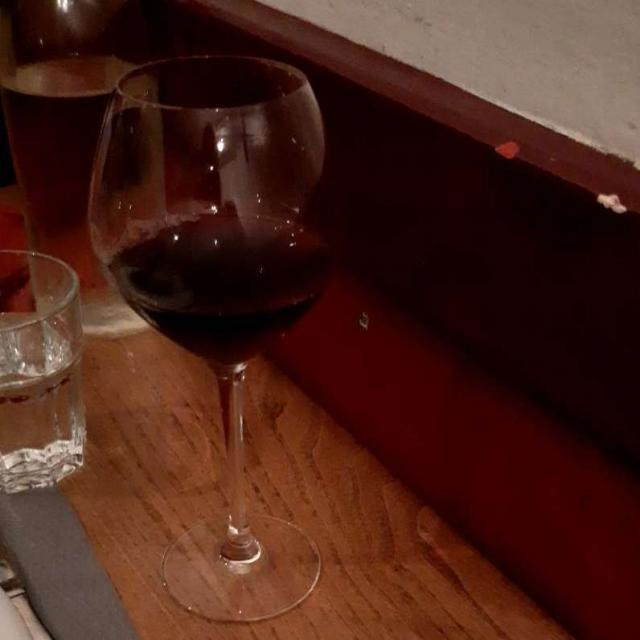wine: (98, 196, 332, 355)
